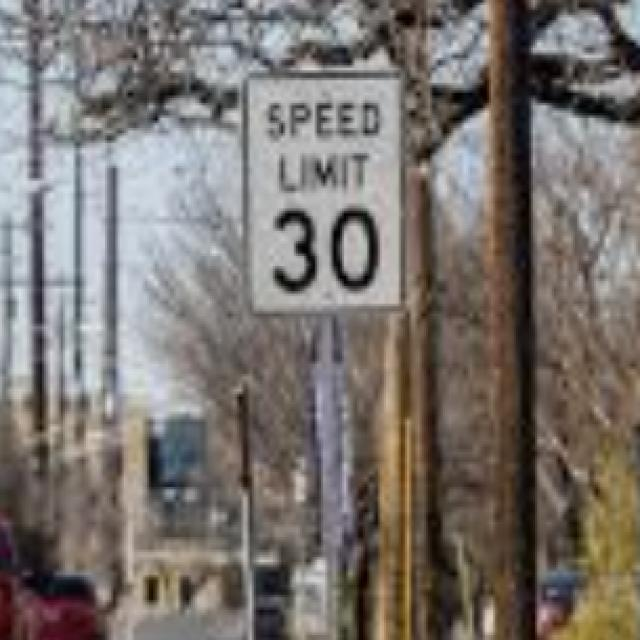speedLimit30: (251, 71, 403, 306)
